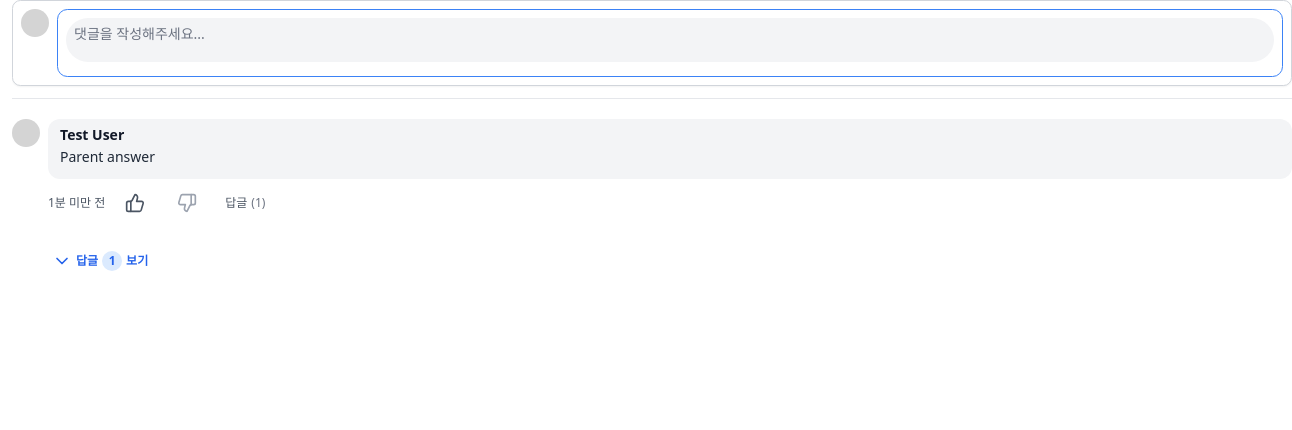
Test case: FacebookAnswerThread Integration Tests › Nested Replies › should expand/collapse nested replies on button click
Check: the text "Child reply" is not shown
Note: Expand - find button using aria-label
Click the button with aria-label "답글 1개 보기" at (100, 261), box [44,239,156,283]
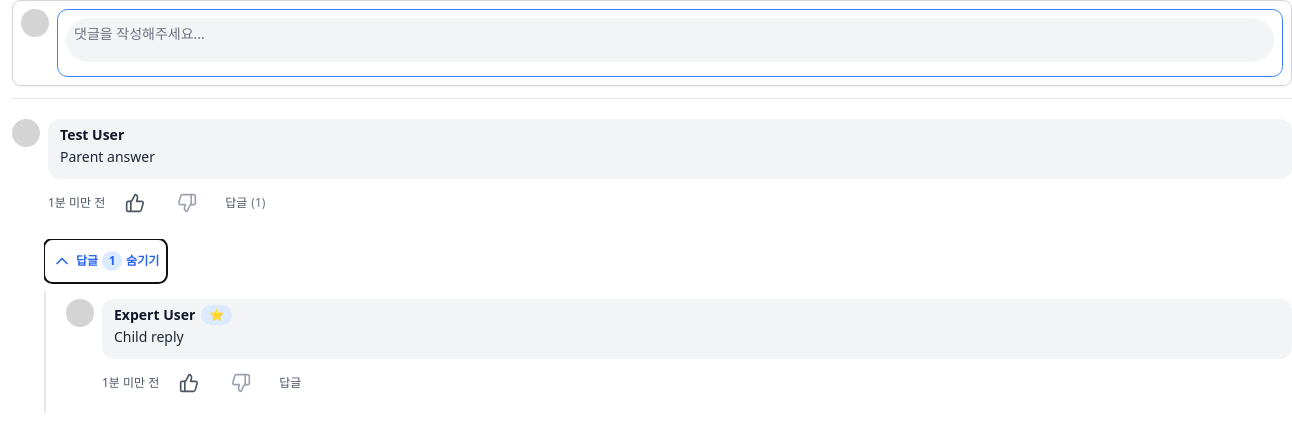
Check: the text "Child reply" is shown, box [114,327,184,346]
Note: Collapse - find button using updated aria-label
Click the button with aria-label "답글 1개 숨기기" at (106, 261), box [44,239,167,283]
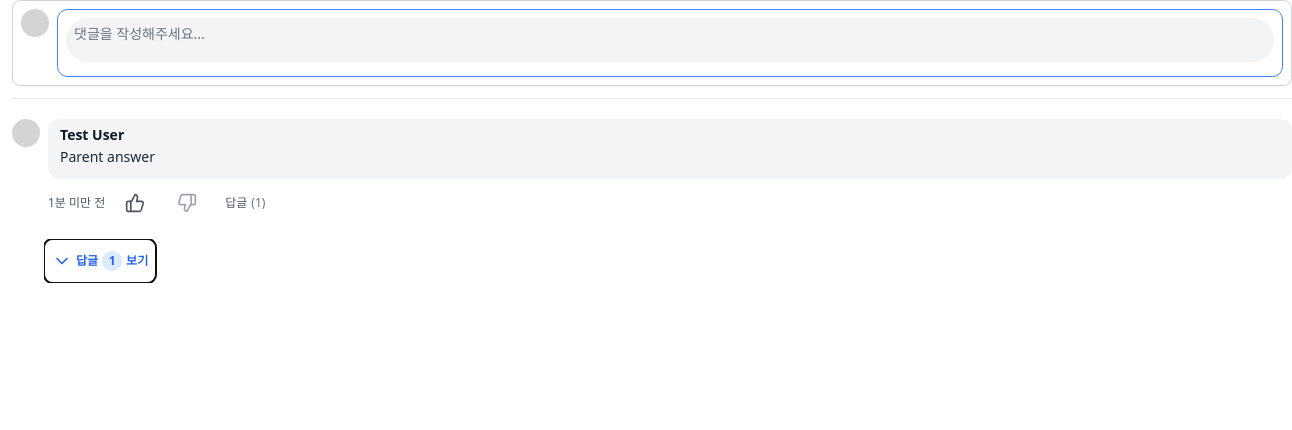
Check: the text "Child reply" is gone
